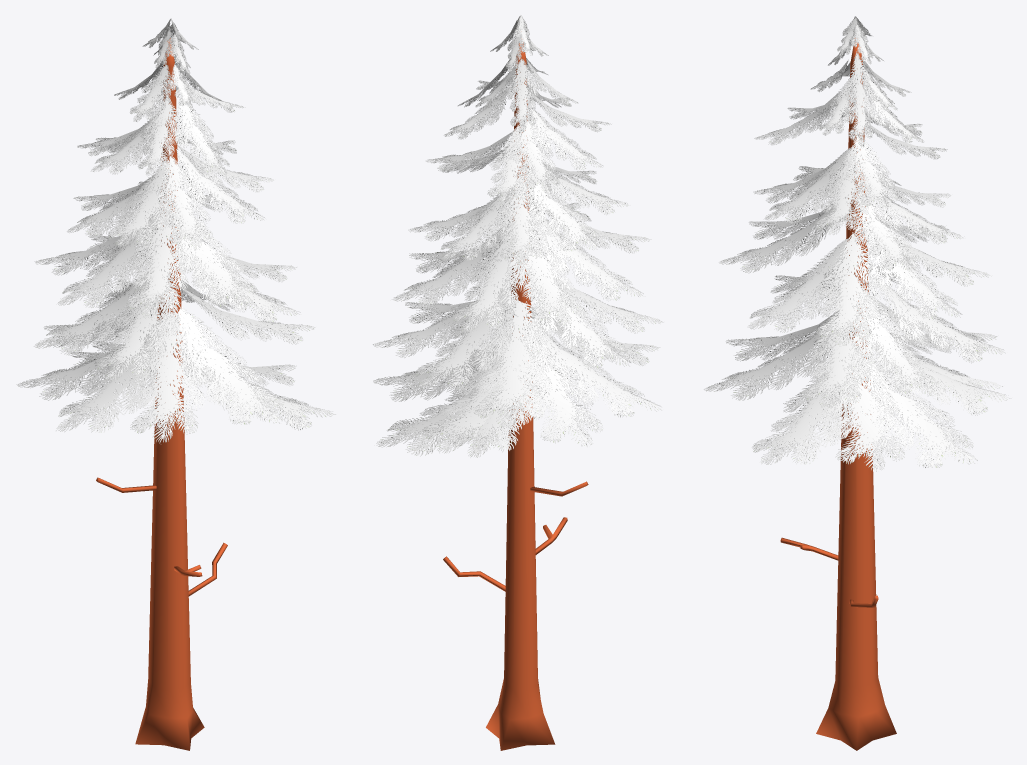
File: TreeDirespect.fbx
The picture shows the model from 3 angles, left to right: view 1: azimuth 30°, elevation 25°; view 2: azimuth 150°, elevation 25°; view 3: azimuth 270°, elevation 25°; orthographic projection.
Parts seen in each view (by area): view 1: Plane.026; view 2: Plane.026; view 3: Plane.026.
Boxes of the visible parts, x1,y1,x2,y2 form: Plane.026: (16, 18, 335, 750); Plane.026: (373, 15, 663, 750); Plane.026: (704, 16, 1012, 750).
Bounding box in the file's own units: 464 × 1191 × 469.
